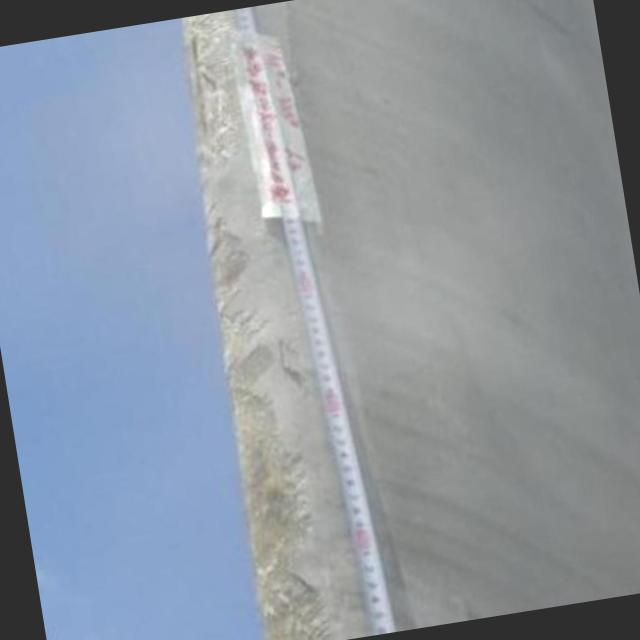corrosion: (161, 9, 335, 640)
